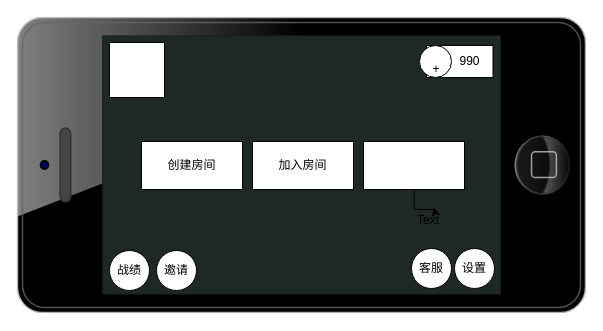
Image size: 603x331. Some labels were removed from this diagram. The box of each missing label's shape, as (x1, y1, x2, y2) in pixels:
个人头像: (108, 42, 164, 98)
亲友圈: (362, 140, 464, 190)
房卡: (418, 44, 452, 78)
